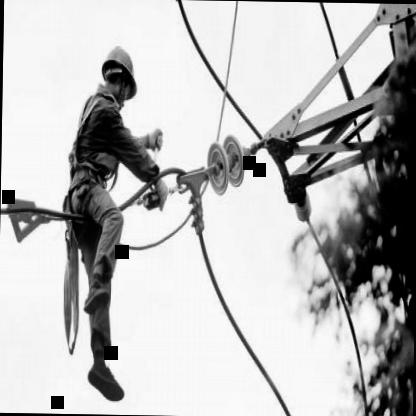helmet: (100, 44, 138, 107)
